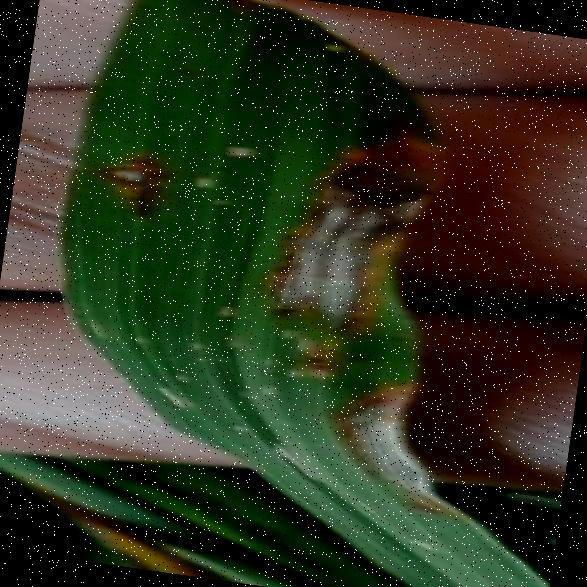Leaf_smut: (251, 109, 445, 377), (301, 343, 477, 527), (72, 125, 168, 211)
